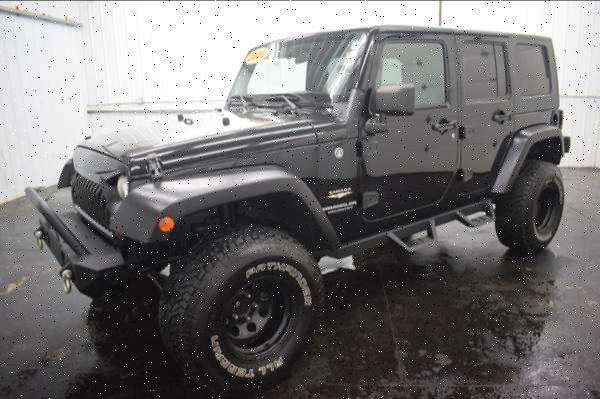Front_Bumper: (33, 183, 123, 293)
Front_Fender: (114, 139, 364, 256)
Front_Left_Door: (357, 104, 460, 240)
Front_Left_Window: (353, 28, 459, 117)
Front_Windshield: (226, 29, 377, 117)
Grille: (63, 149, 132, 242)
Hood: (78, 106, 355, 175)
Rear_Fender: (496, 33, 566, 188)
Rear_Left_Door: (460, 97, 516, 204)
Rear_Left_Window: (455, 32, 514, 99)
Wheel: (157, 220, 329, 393), (493, 160, 567, 251)
